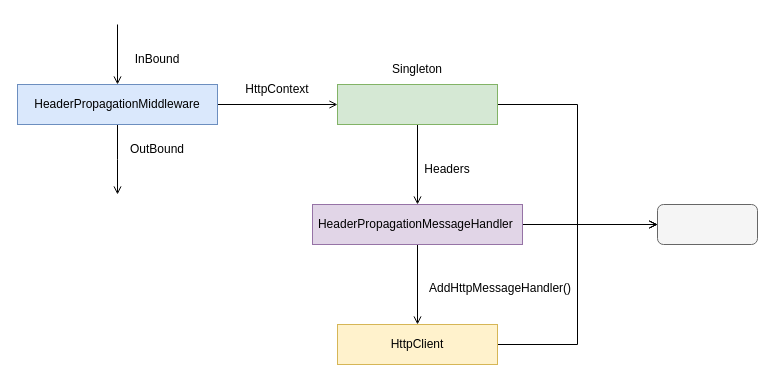
This 775x382 diagram has some shape labels left out. Here are the shapes that lost their labels. From the top down, the box of each, then its label:
(336, 84, 498, 124): HeaderPropagationValues
(656, 204, 758, 244): IServiceProvider
